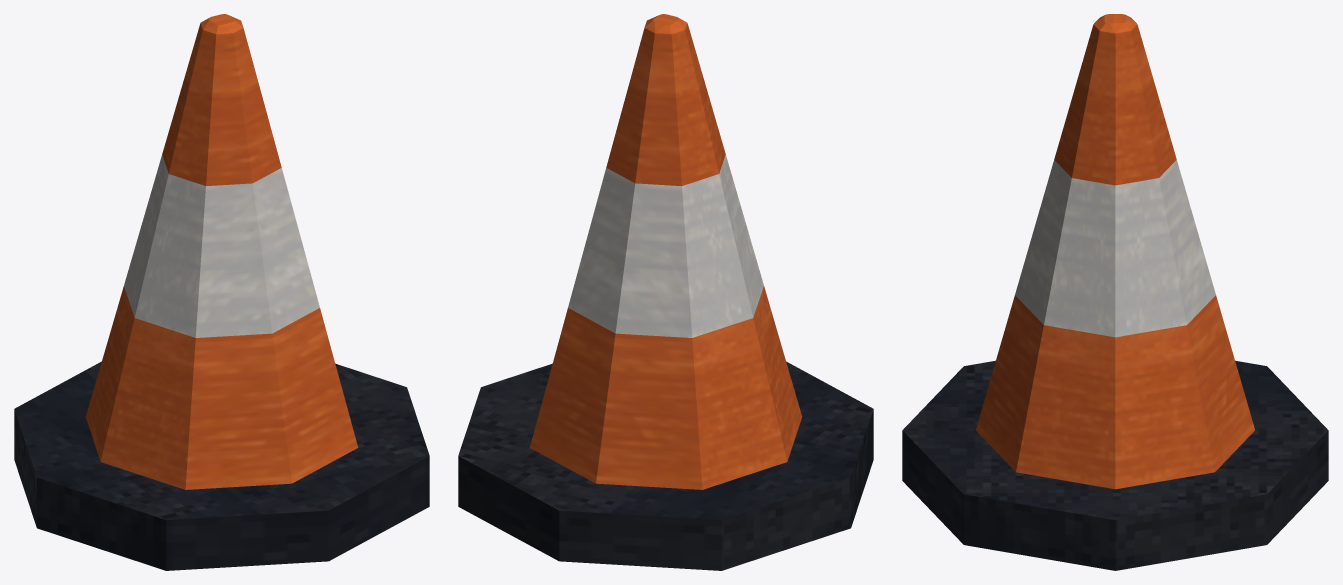
File: TrafficCone.glb
3 views of the same model, side by side, from view 1: azimuth 30°, elevation 25°; view 2: azimuth 150°, elevation 25°; view 3: azimuth 270°, elevation 25° (orthographic).
Visible parts, largest first — view 1: Cube; view 2: Cube; view 3: Cube.
Boxes of the visible parts, box(x1,y1,x2,y2) form: Cube: box(14, 14, 429, 570); Cube: box(458, 14, 873, 570); Cube: box(902, 14, 1328, 570).
Bounding box in the file's own units: 0.5612 × 0.6718 × 0.5612.
Materials: 2 (2 with a texture image).
